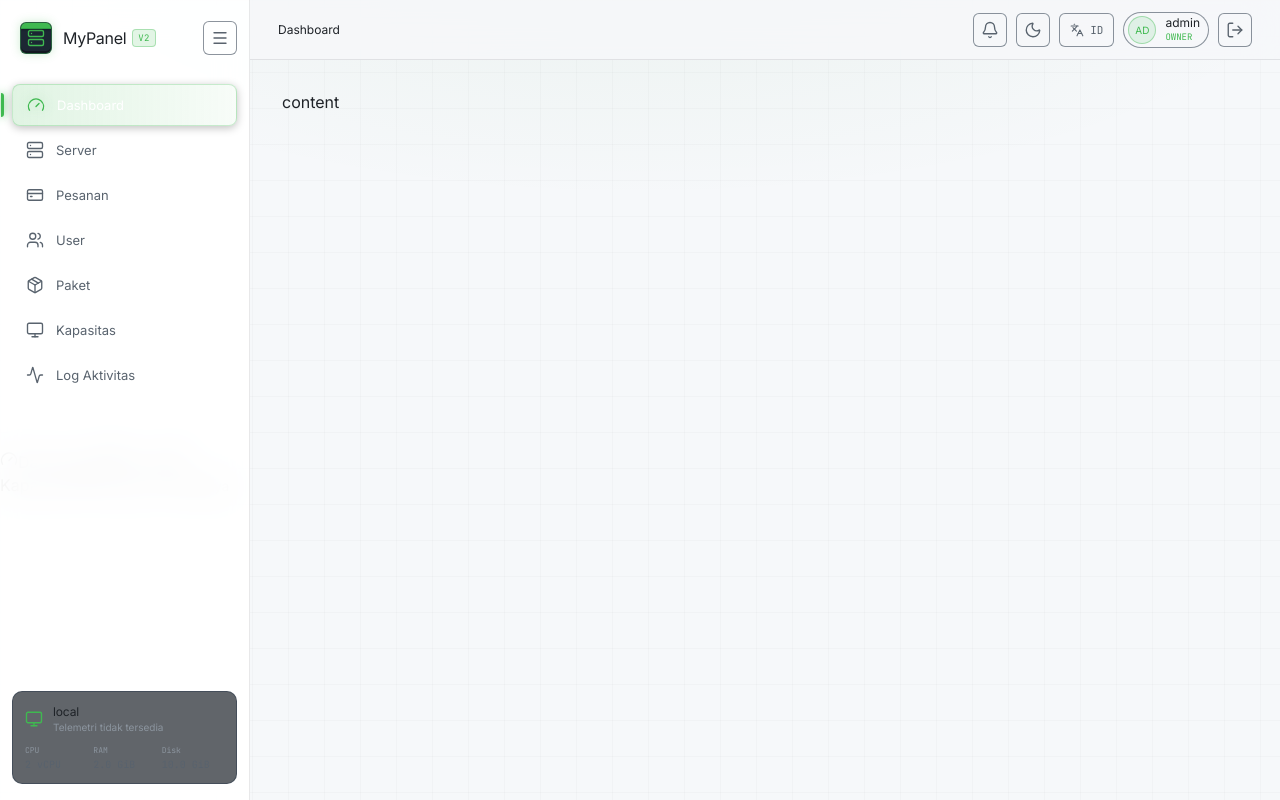
Test: AppShell contextual navigation › persists the collapsed desktop sidebar preference
The width and height of the screenshot is (1280, 800).
Click the button named "Sembunyikan sidebar" at coordinates (220, 38), box [203,21,237,55]
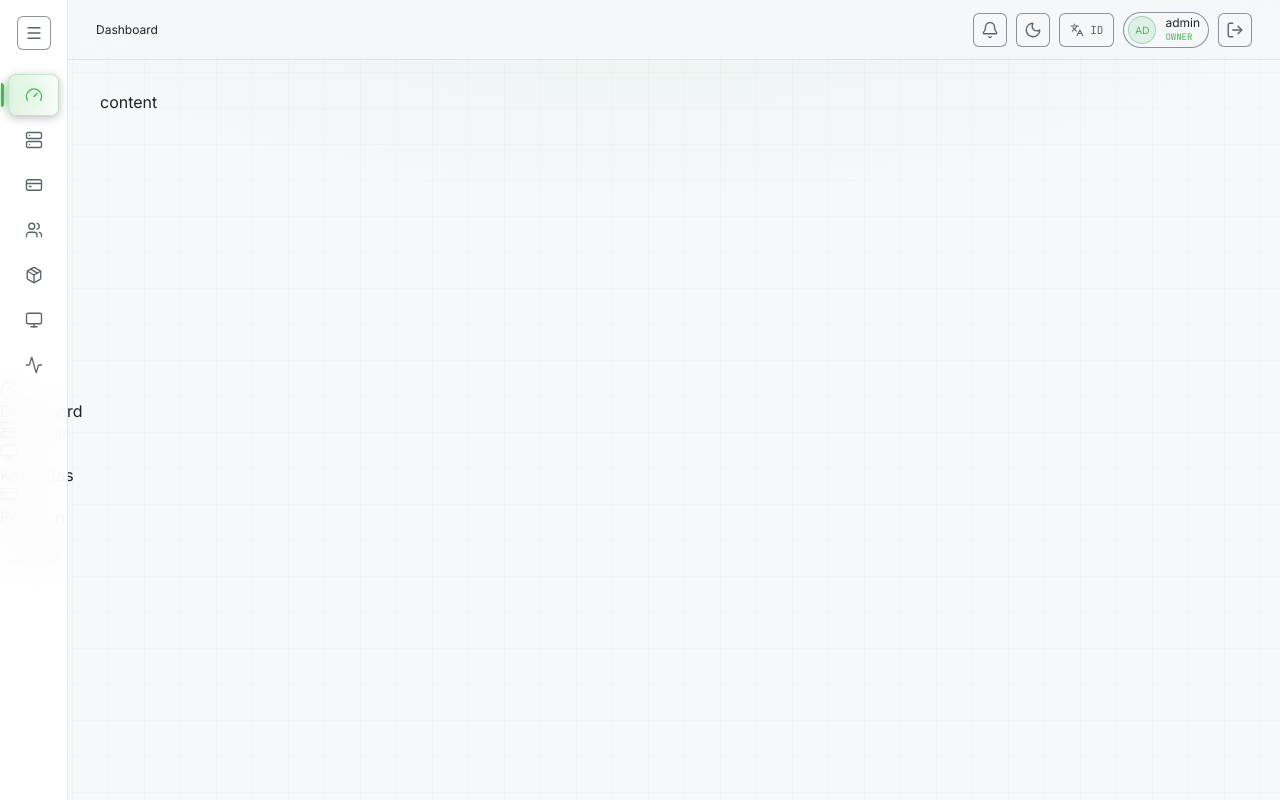
Expected: the button named "Tampilkan sidebar" is shown, [16,16,50,50]
